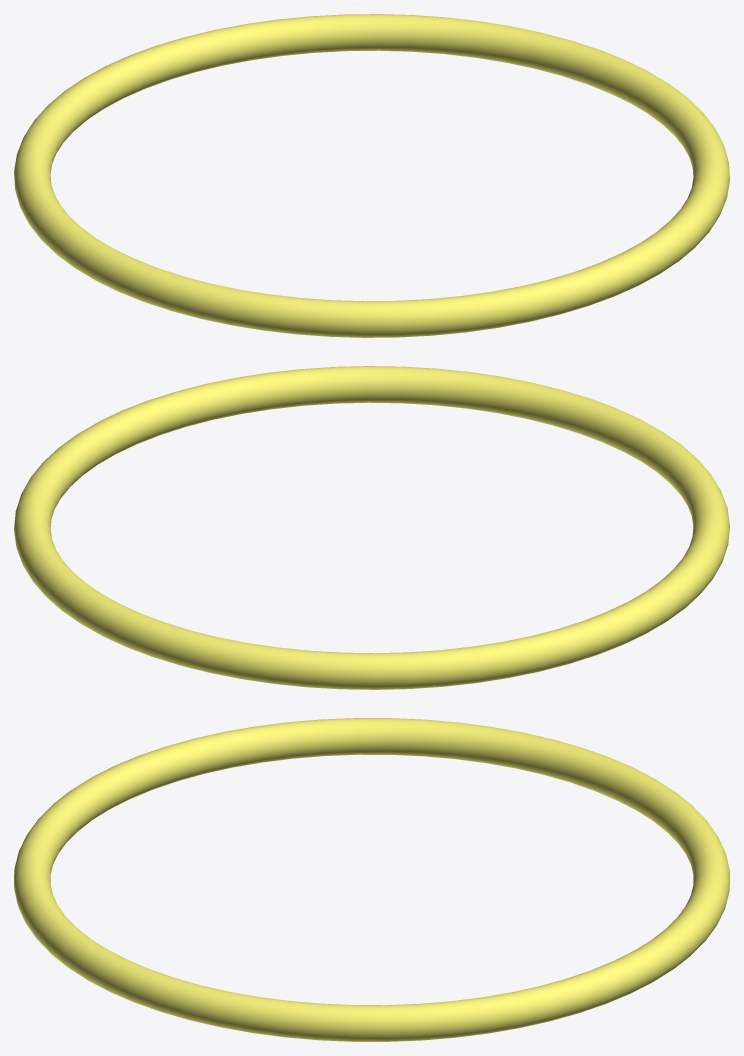
The picture shows the model from 3 angles, top to bottom: view 1: azimuth 30°, elevation 25°; view 2: azimuth 150°, elevation 25°; view 3: azimuth 270°, elevation 25°; orthographic projection.
Parts seen in each view (by area): view 1: Torus.002; view 2: Torus.002; view 3: Torus.002.
Boxes of the visible parts, x1=… form: Torus.002: x1=14, y1=14, x2=729, y2=337; Torus.002: x1=14, y1=366, x2=729, y2=689; Torus.002: x1=14, y1=718, x2=729, y2=1041.
Size of the model in its own units: 54.47 by 54.47 by 2.8.
